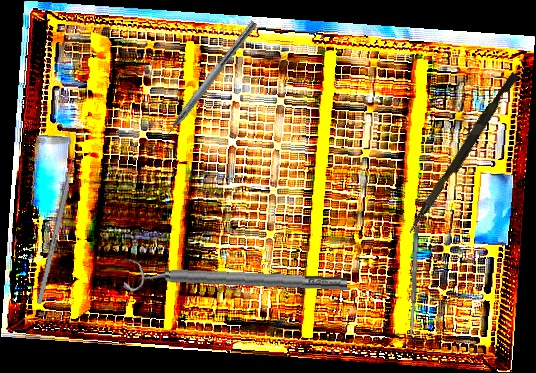Chopper: (150, 14, 258, 148)
Fixation Ring: (123, 256, 348, 303)
Pusher: (407, 69, 519, 238), (36, 141, 80, 305)
Spatula Surgical: (408, 225, 420, 337)
